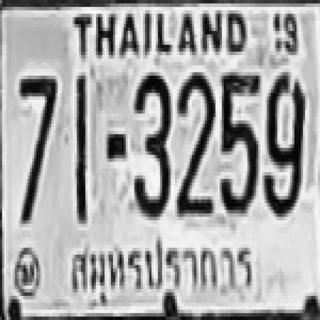N01: (75, 74, 85, 222)
N02: (175, 70, 214, 215)
N03: (131, 70, 170, 215)
N05: (220, 70, 258, 212)
N07: (17, 72, 56, 220)
N09: (262, 69, 303, 213)
P57: (63, 233, 261, 313)
